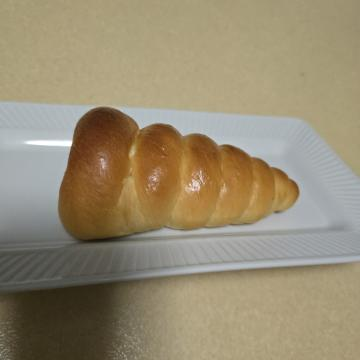cream horn: (83, 50, 286, 318)
